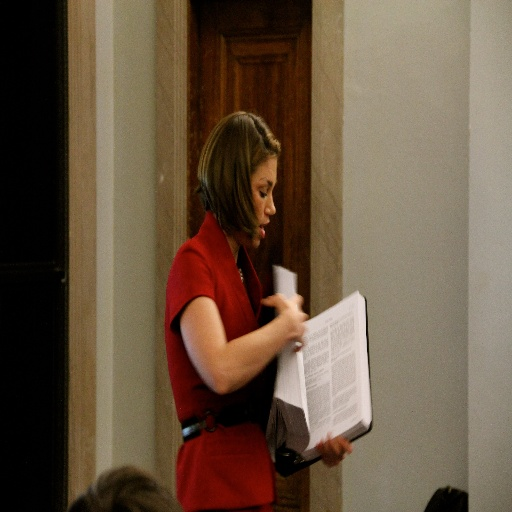hand: (266, 296, 307, 362), (313, 425, 354, 472)
